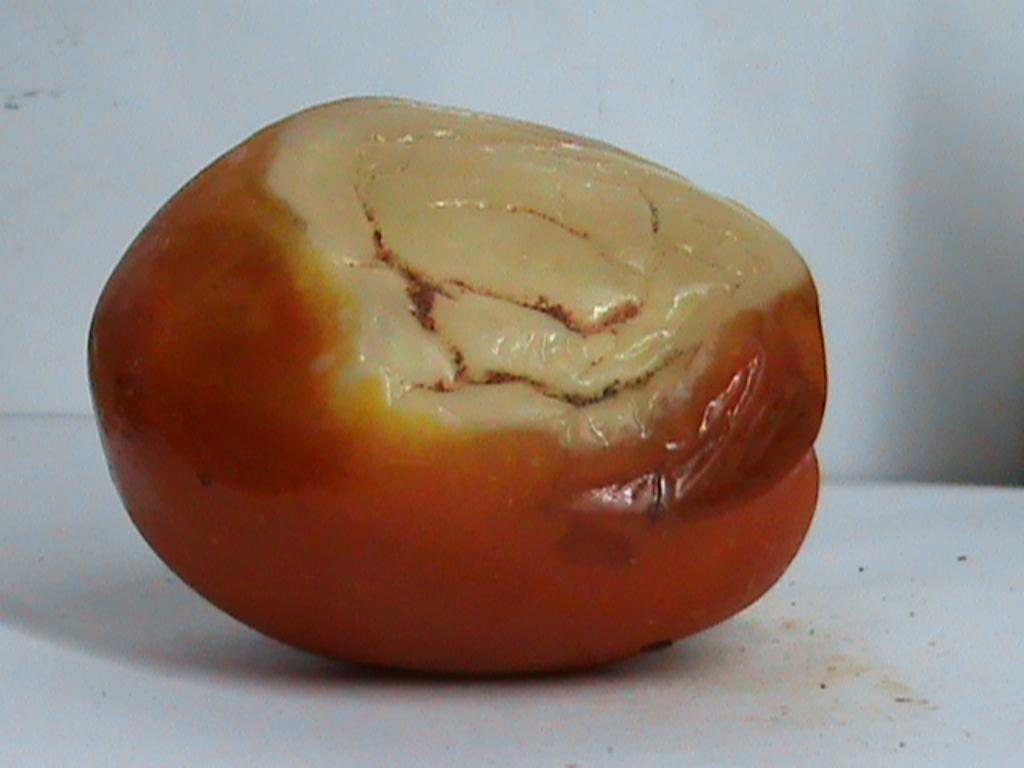bruise_discoloration: (544, 285, 824, 568), (91, 222, 360, 491)
surface_damage: (254, 99, 806, 445), (355, 184, 512, 333), (413, 334, 664, 405), (515, 296, 640, 331), (507, 206, 594, 238), (648, 200, 661, 240)
tomato: (91, 99, 824, 674)
